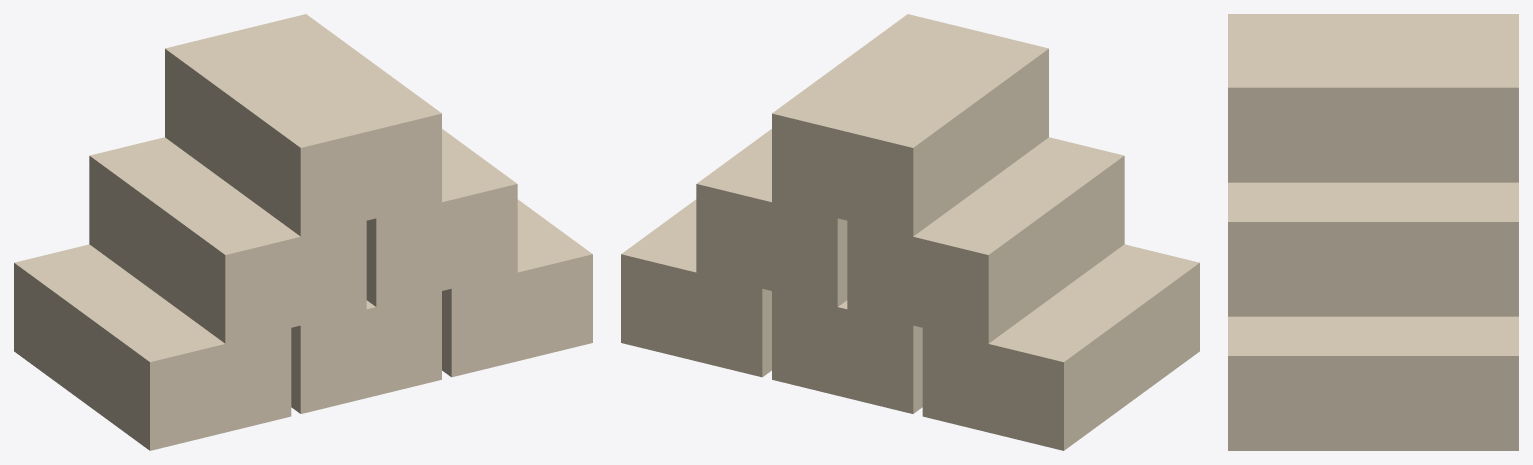
File: sandbags.glb
The picture shows the model from 3 angles, left to right: view 1: azimuth 30°, elevation 25°; view 2: azimuth 150°, elevation 25°; view 3: azimuth 270°, elevation 25°; orthographic projection. The views are drawn at different scales.
Visible parts, largest first — view 1: sandbags; view 2: sandbags; view 3: sandbags.
Part boxes in pixels (left/top/right/bottom): sandbags: left=14, top=14, right=592, bottom=450; sandbags: left=621, top=14, right=1199, bottom=450; sandbags: left=1228, top=14, right=1518, bottom=450.
Bounding box in the file's own units: 0.94 × 0.54 × 0.5.
